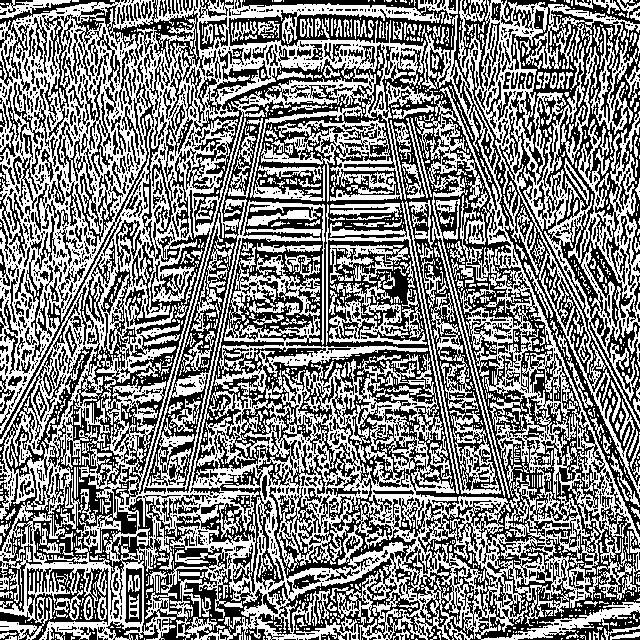left side: (139, 117, 265, 490), (386, 118, 508, 495)
player: (247, 474, 293, 598), (368, 51, 388, 115)
